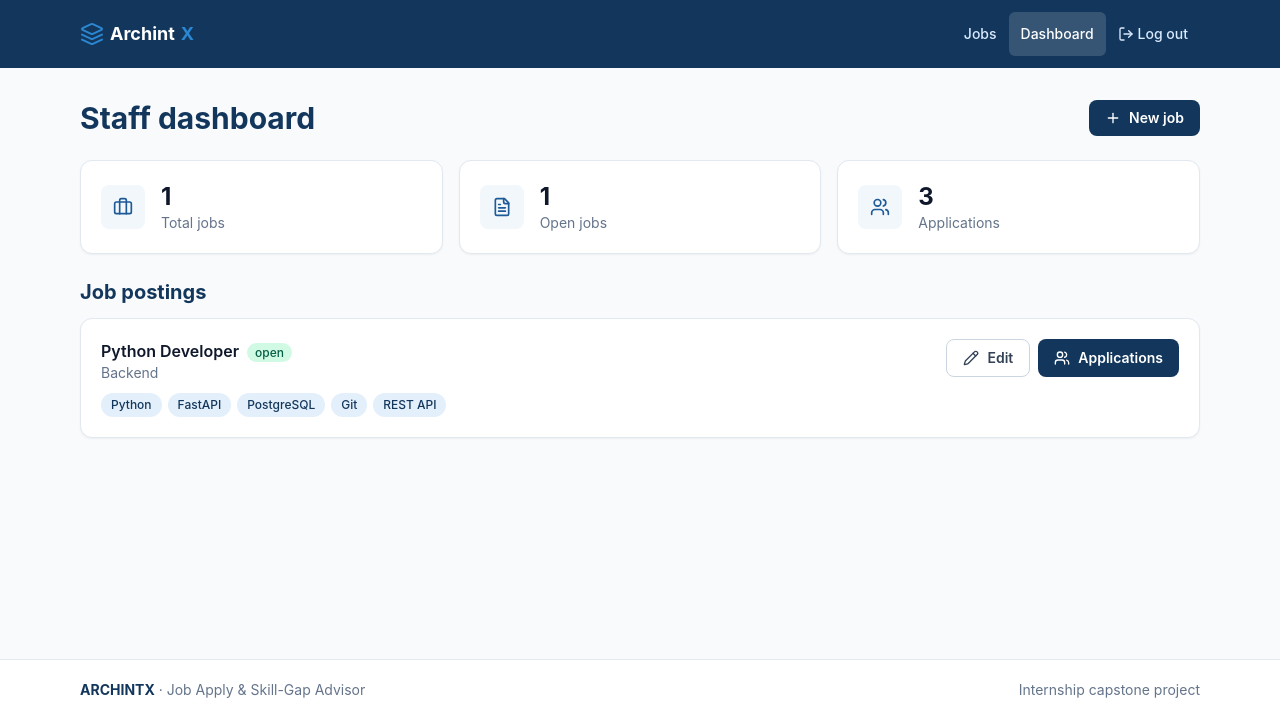
Test: job create / edit › edits an existing job with PUT
Click the button with aria-label "edit python developer" at (988, 358), box [946,339,1030,377]
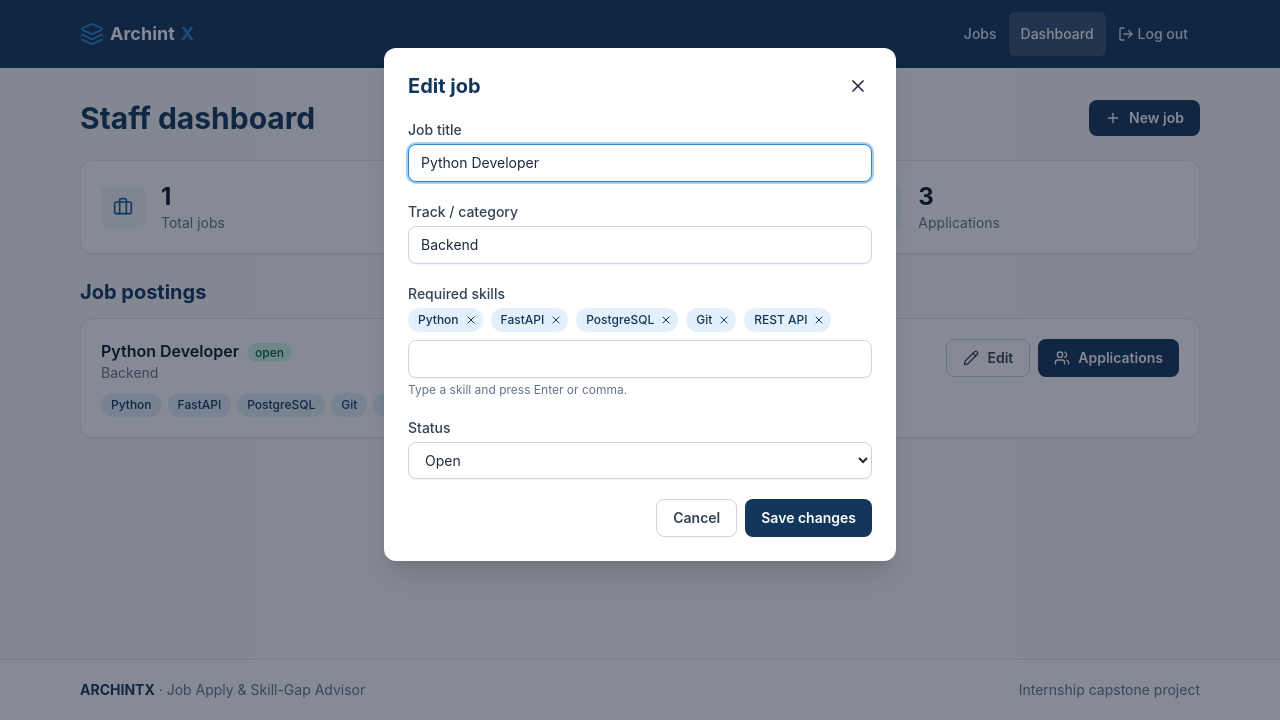
Replace the text in the field labelled "Job title" with "Senior Python Developer" at (640, 163), box [408,144,872,182]
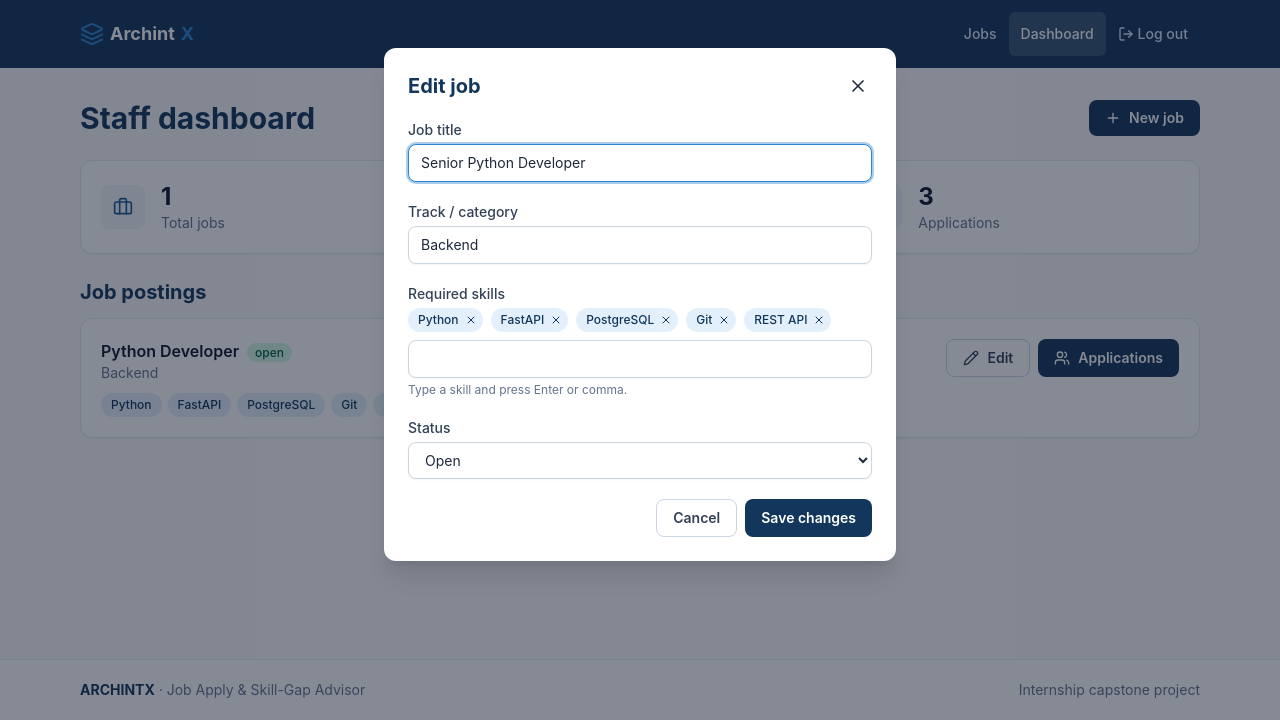
Click the button "Save changes" at (809, 518), box [745,499,872,537]
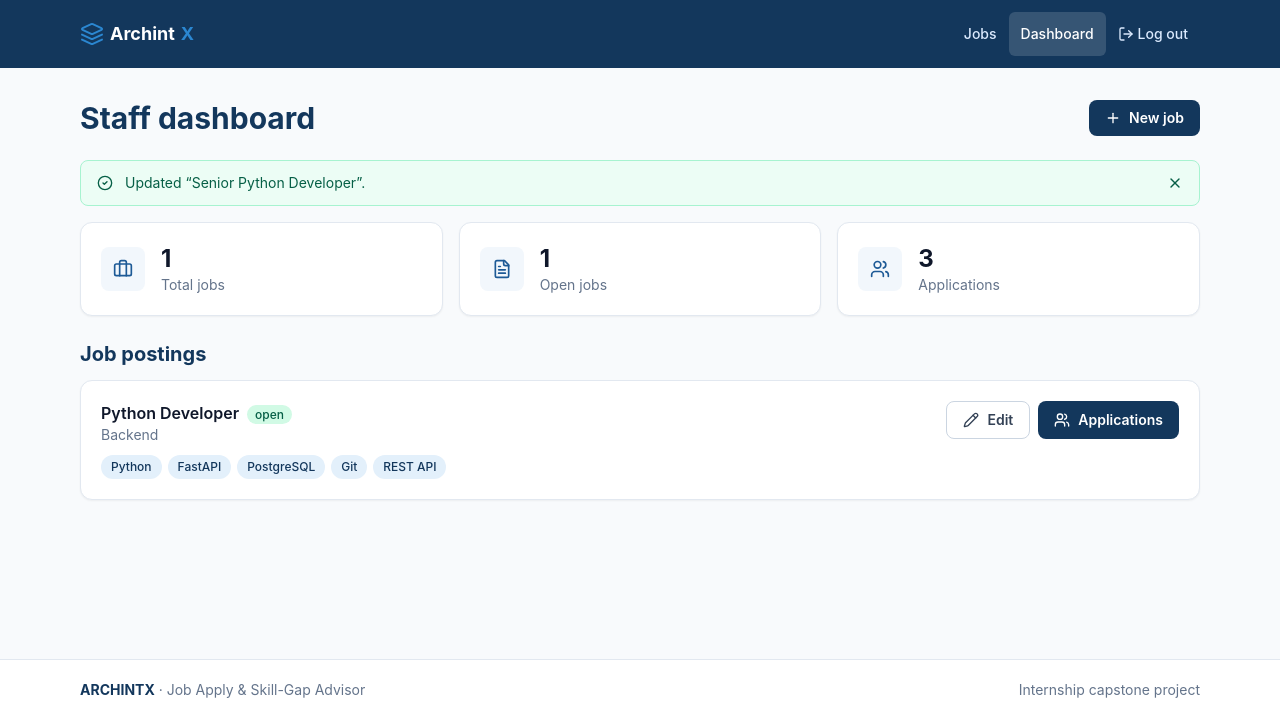
Expected: the text "Updated “Senior Python Developer”." is shown, [125,174,365,191]
